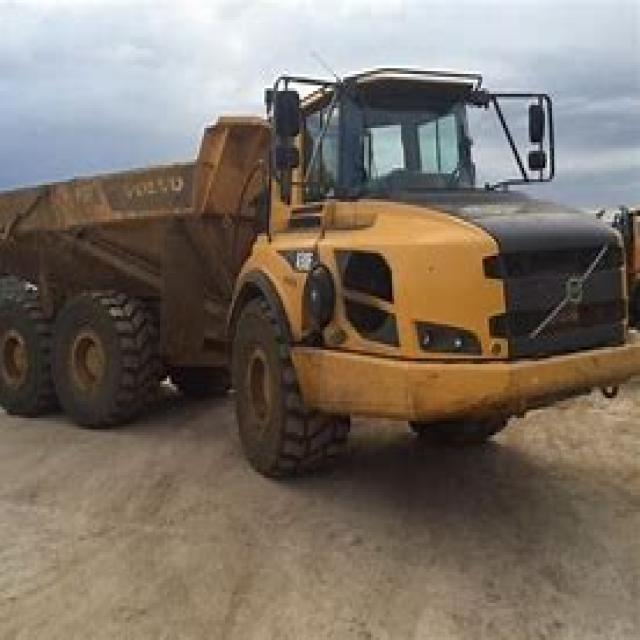dump_truck: (5, 43, 635, 478)
